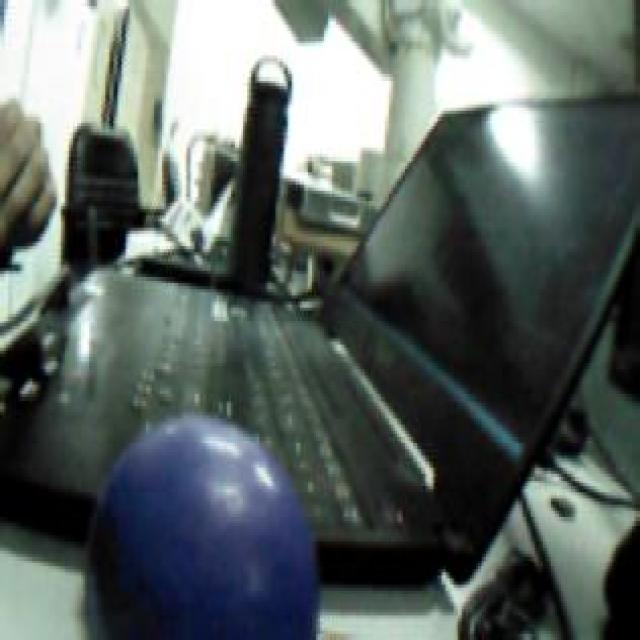BallPurple: (88, 412, 321, 640)
